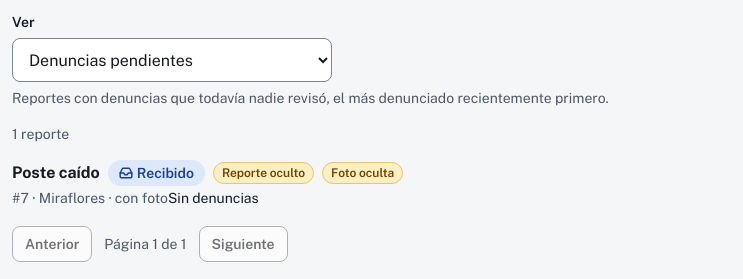
Scenario: BandejaModeracion (NC-11b) › «Ocultos» (decisión del 30/10) lista también los reportes ocultos sin denuncias
The image size is (743, 279).
expect the link "Poste caído" is shown: met, box [12, 160, 403, 206]
Select "Ocultos" in the dropdown labelled "Ver" at (172, 60), box [12, 38, 332, 82]
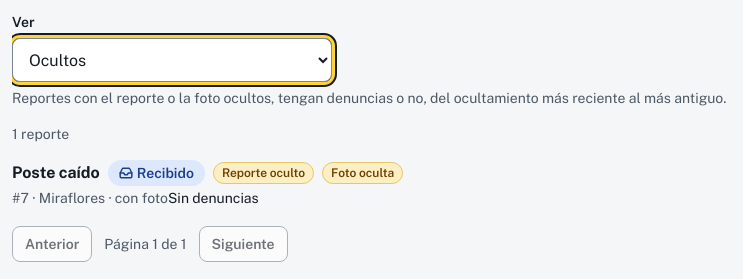
expect the link "Poste caído" shows "Reporte oculto": met, box [12, 160, 403, 206]
expect the text "tengan denuncias o no" is shown: met, box [12, 90, 726, 106]
